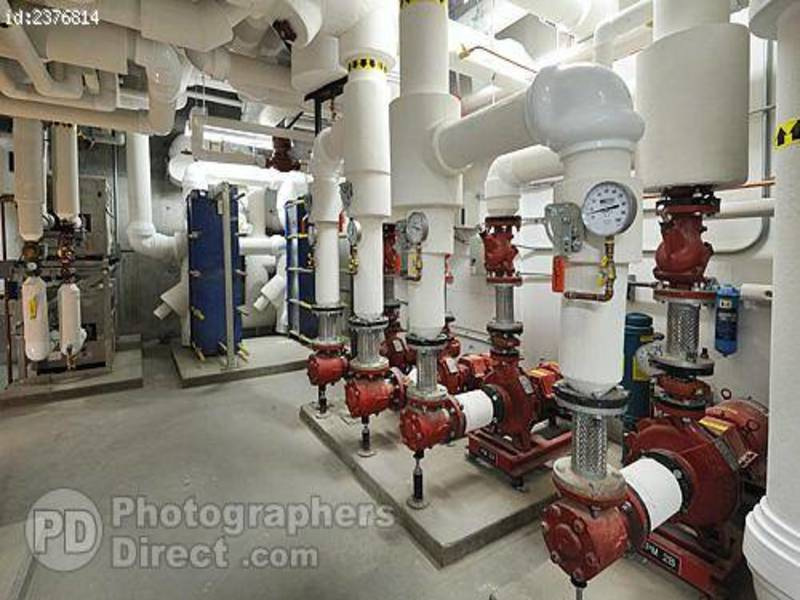valve: (409, 250, 421, 278), (25, 296, 36, 322)
